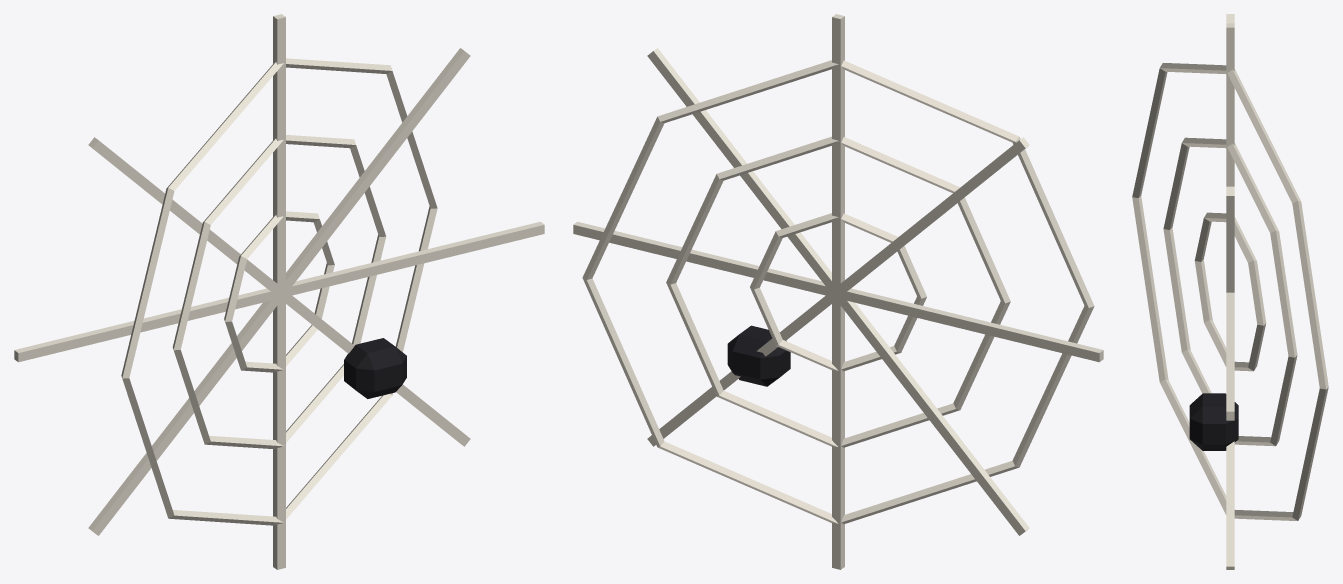
The model's file is SpiderWeb.fbx.
3 views of the same model, side by side, from view 1: azimuth 30°, elevation 25°; view 2: azimuth 150°, elevation 25°; view 3: azimuth 270°, elevation 25° (orthographic). The views are drawn at different scales.
Parts seen in each view (by area): view 1: SpiderWeb; view 2: SpiderWeb; view 3: SpiderWeb.
Boxes of the visible parts, left/top/right/bottom form: SpiderWeb: left=14, top=14, right=544, bottom=569; SpiderWeb: left=573, top=14, right=1103, bottom=569; SpiderWeb: left=1132, top=14, right=1328, bottom=569.
Size of the model in its own units: 3.6 by 3.6 by 1.2.
Materials: 1 (1 with a texture image).
